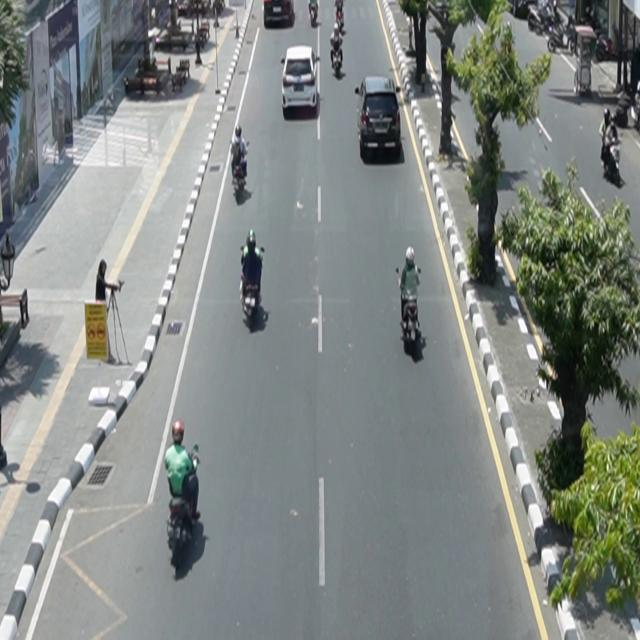car: (355, 76, 402, 160), (281, 46, 321, 112)
